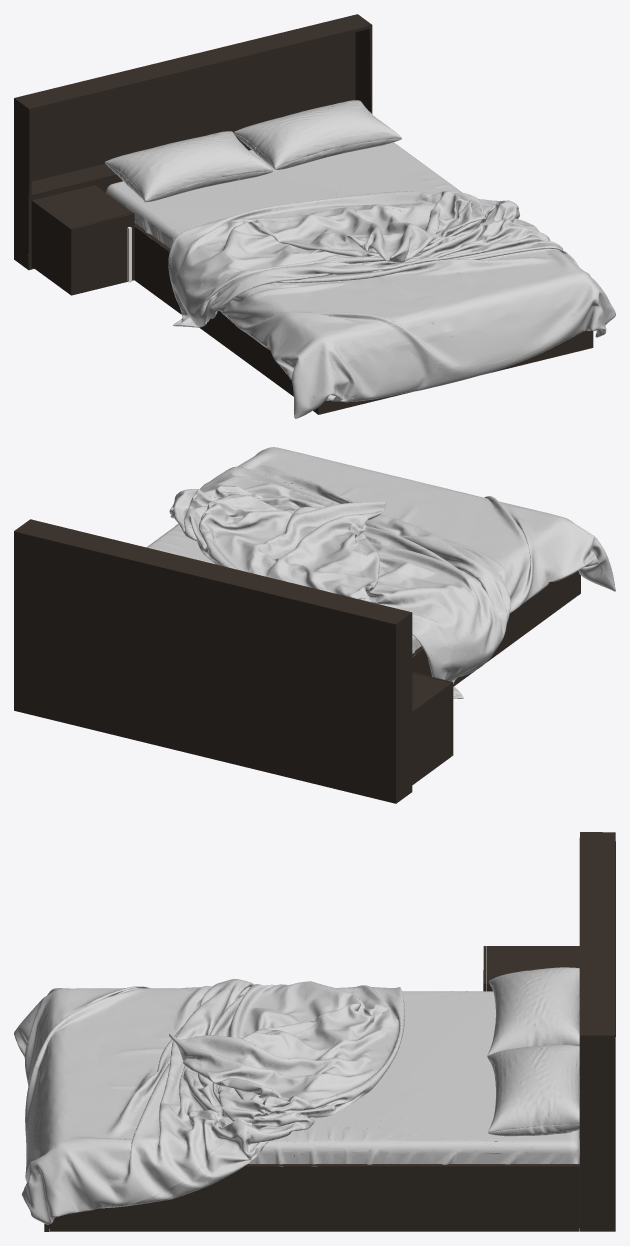
Rendered from bed-4.glb.
3 views of the same model, one above another, from view 1: azimuth 30°, elevation 25°; view 2: azimuth 150°, elevation 25°; view 3: azimuth 270°, elevation 25° (orthographic). The views are drawn at different scales.
Parts seen in each view (by area): view 1: Object_7, Object_3, Object_4, Object_5, Object_6; view 2: Object_7, Object_3, Object_4, Object_5, Object_6; view 3: Object_7, Object_4, Object_3, Object_5, Object_6.
Part boxes in pixels (box(x1,y1,x2,y2)): Object_7: box(14, 14, 593, 414); Object_3: box(105, 100, 615, 418); Object_4: box(105, 102, 606, 407); Object_5: box(105, 100, 609, 414); Object_6: box(105, 101, 611, 418); Object_7: box(14, 519, 580, 803); Object_3: box(146, 450, 615, 698); Object_4: box(155, 447, 598, 689); Object_5: box(156, 447, 614, 698); Object_6: box(151, 453, 615, 698); Object_7: box(44, 832, 615, 1231); Object_4: box(14, 967, 579, 1224); Object_3: box(19, 967, 579, 1224); Object_5: box(17, 967, 579, 1218); Object_6: box(15, 968, 579, 1218).
Size of the model in its own units: 16.14 by 6.72 by 18.69.
Materials: 3 (1 with a texture image).
